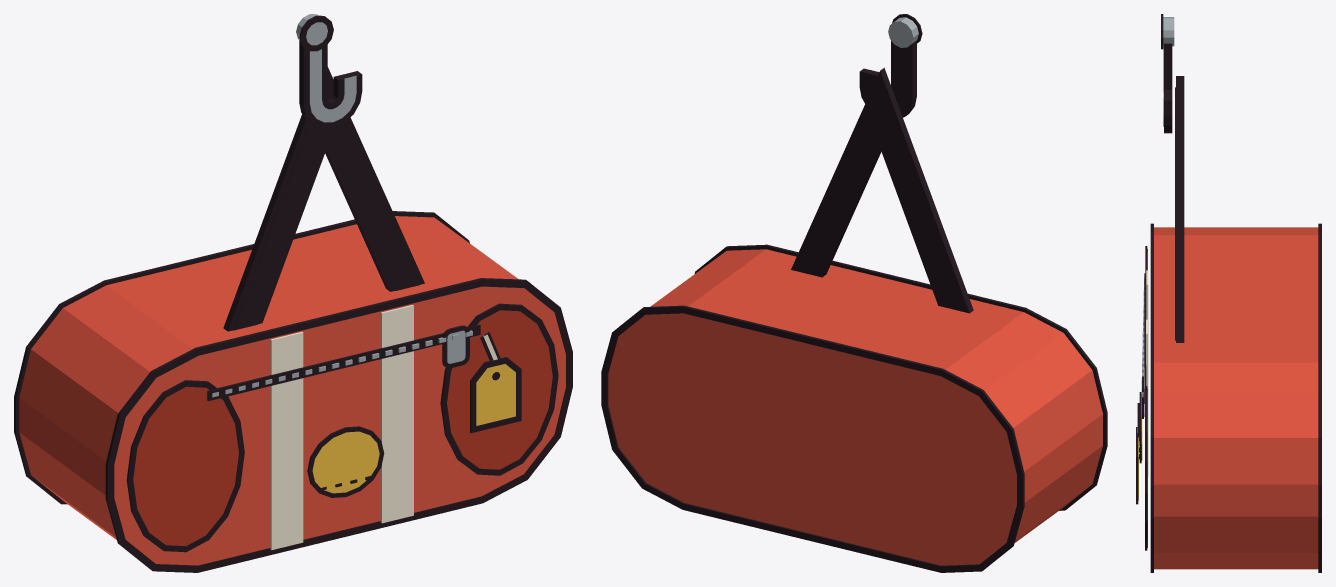
3 renders of one model, left to right at view 1: azimuth 30°, elevation 25°; view 2: azimuth 150°, elevation 25°; view 3: azimuth 270°, elevation 25°, orthographic. The views are drawn at different scales.
Visible parts, largest first — view 1: Bag Holders proposal; view 2: Bag Holders proposal; view 3: Bag Holders proposal.
Boxes of the visible parts, x1=… form: Bag Holders proposal: x1=14, y1=14, x2=572, y2=572; Bag Holders proposal: x1=601, y1=14, x2=1107, y2=572; Bag Holders proposal: x1=1136, y1=14, x2=1321, y2=572.
Size of the model in its own units: 0.9211 by 0.987 by 0.3482.
